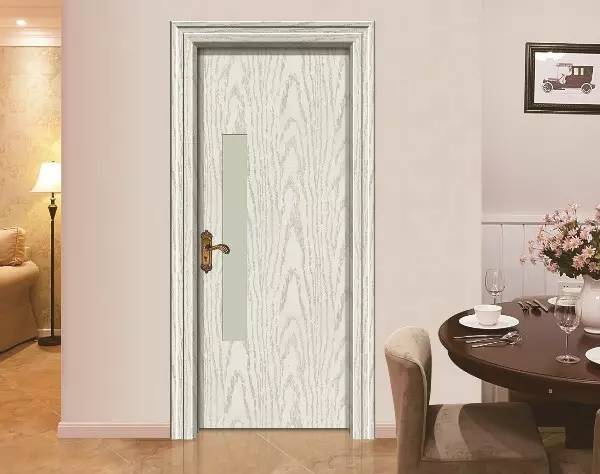door: (198, 48, 352, 429)
